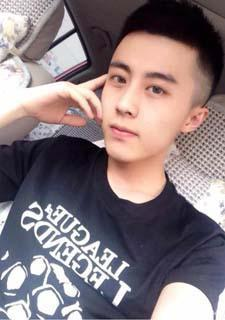person: (22, 25, 225, 272)
